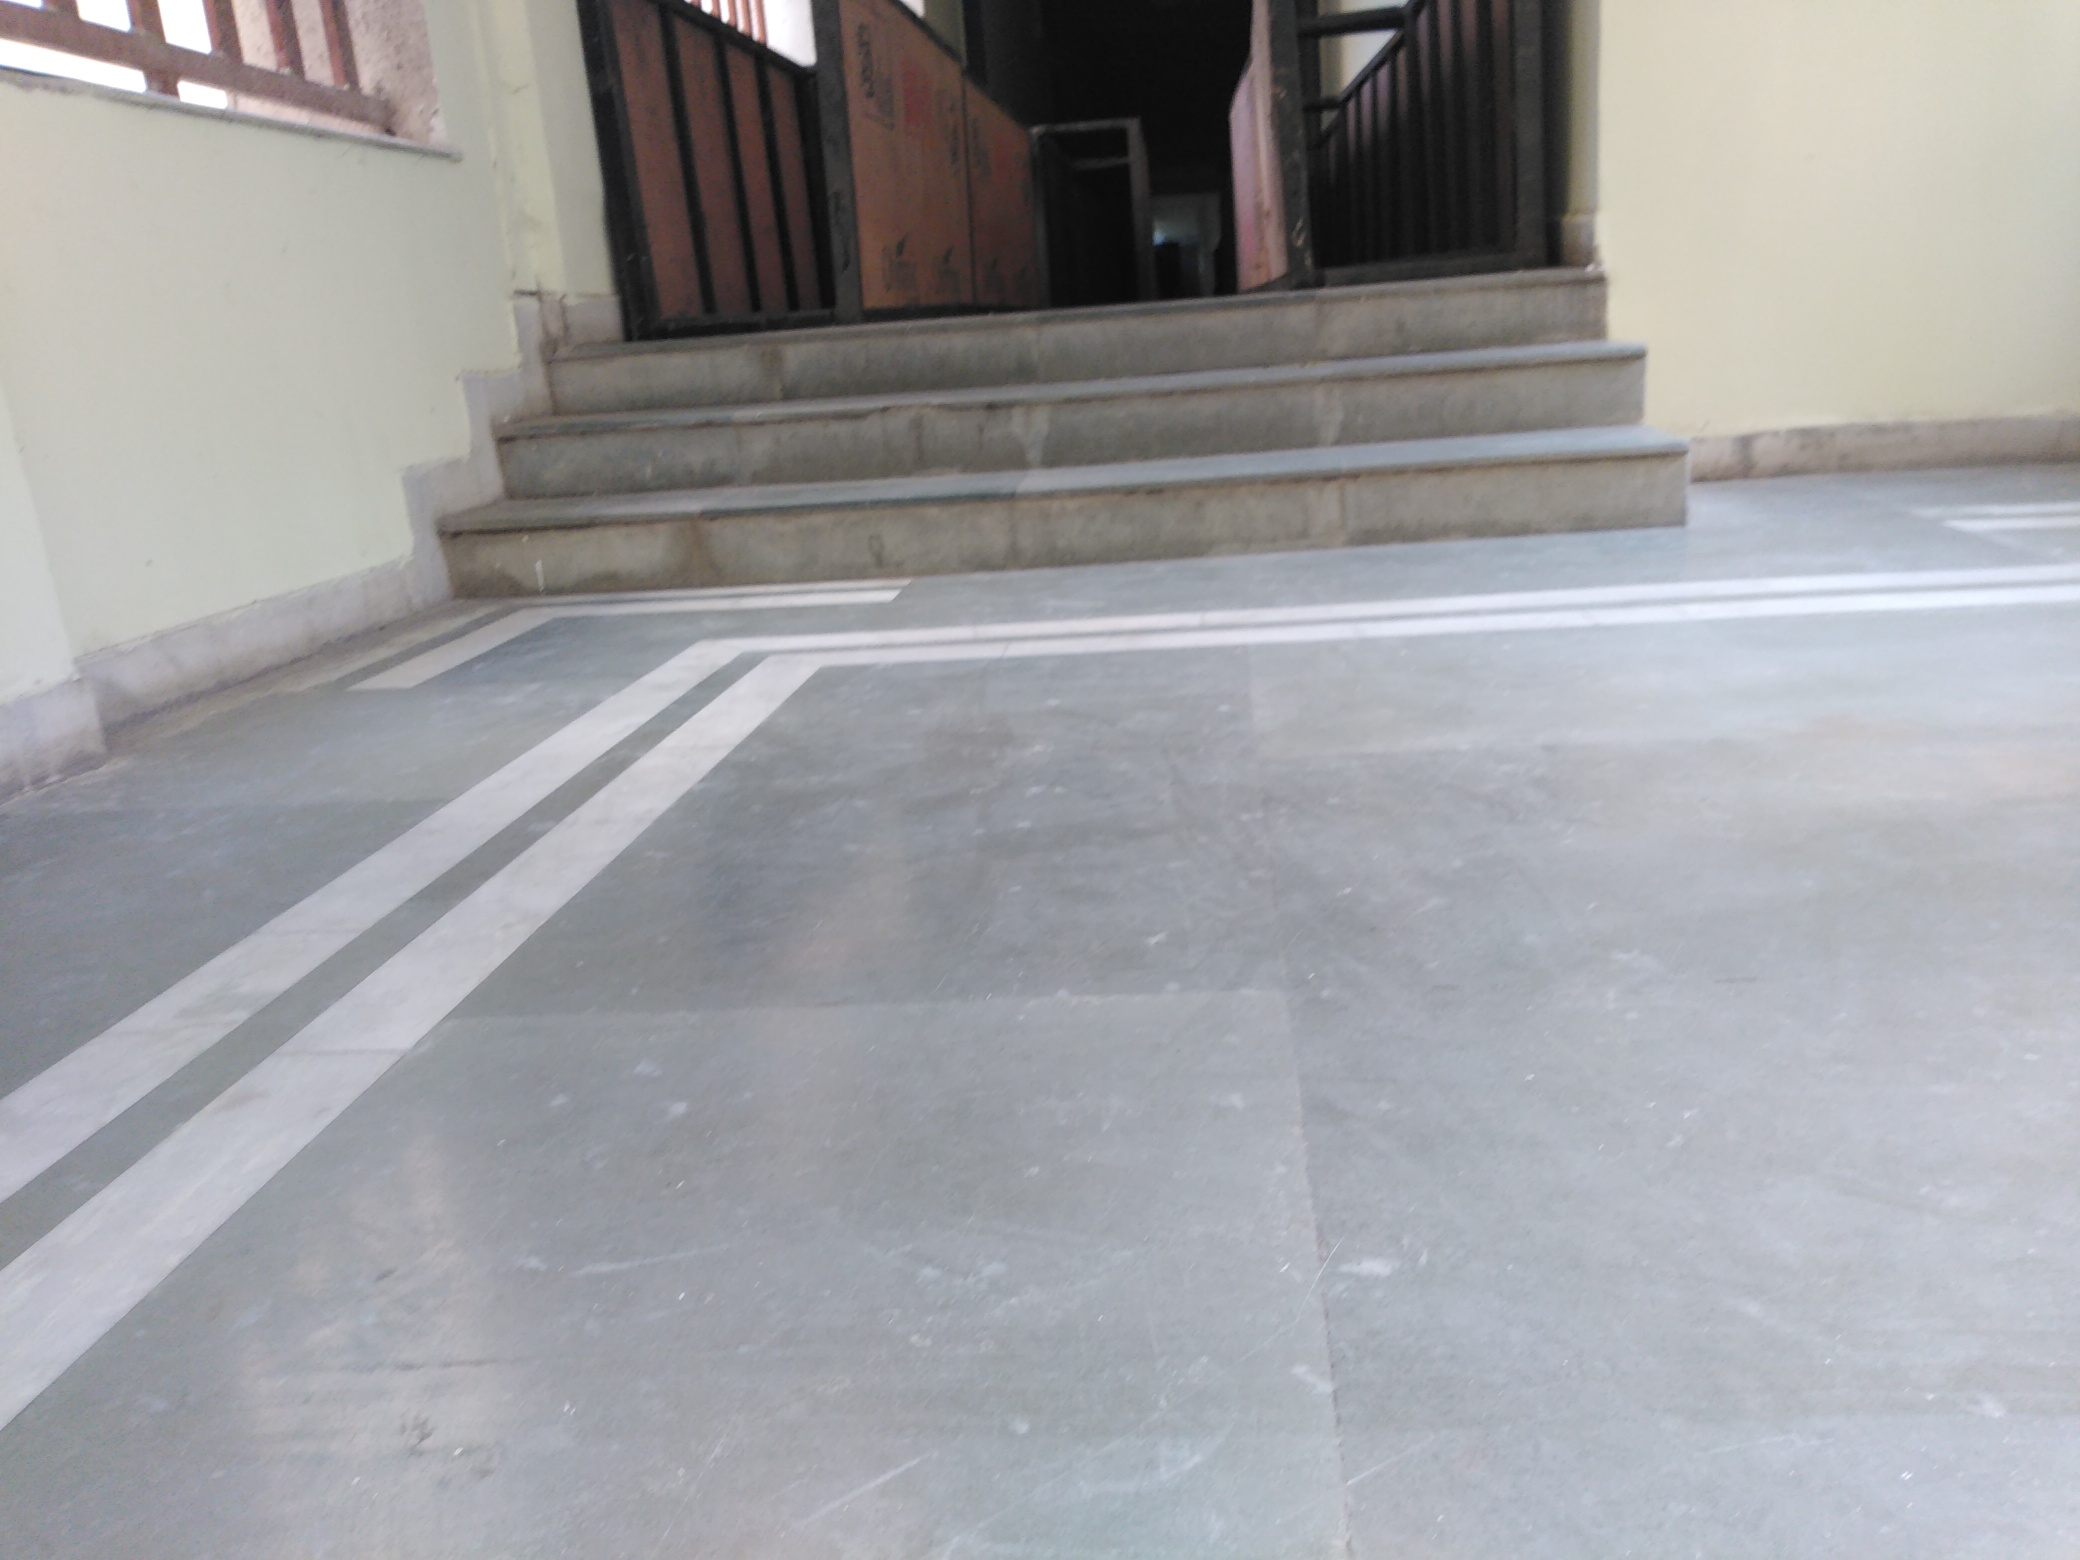stairs_up: (437, 257, 1631, 585)
